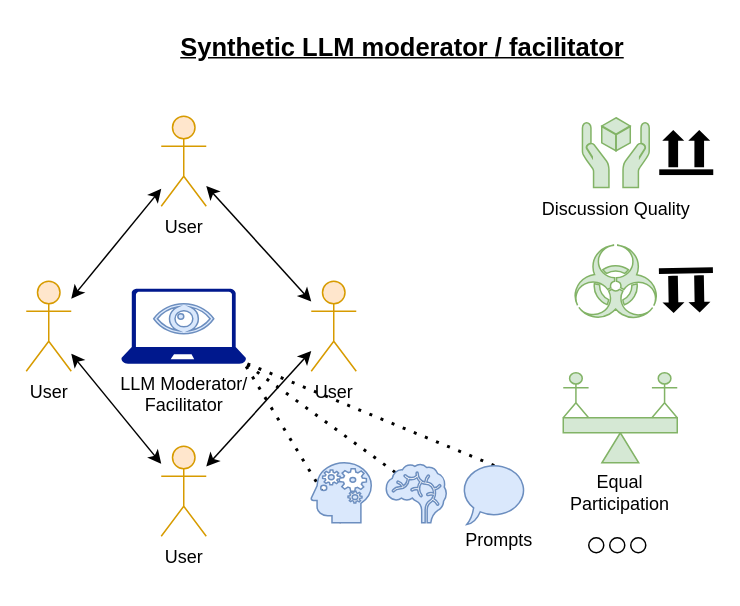
Image size: 740x606. Some labels were removed from this diagram. Each missing label, with the box of its shape:
Model: (385, 463, 446, 523)
Strategies: (310, 461, 371, 523)
Toxicity: (571, 244, 659, 320)
